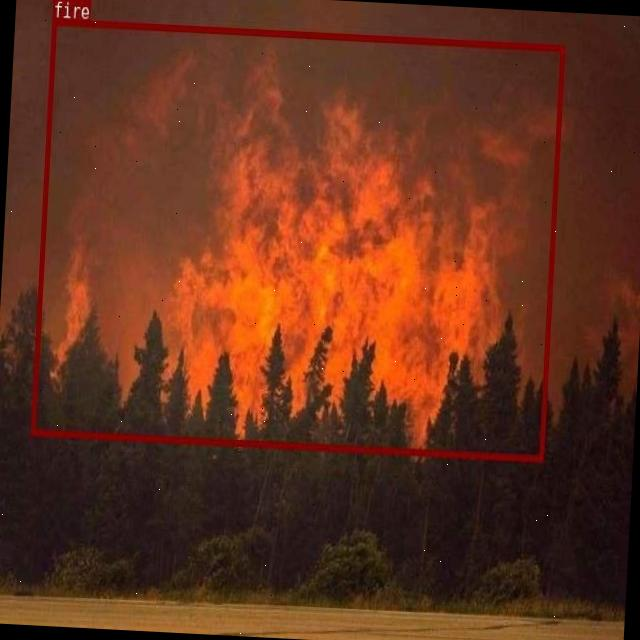fire: (31, 18, 564, 460)
